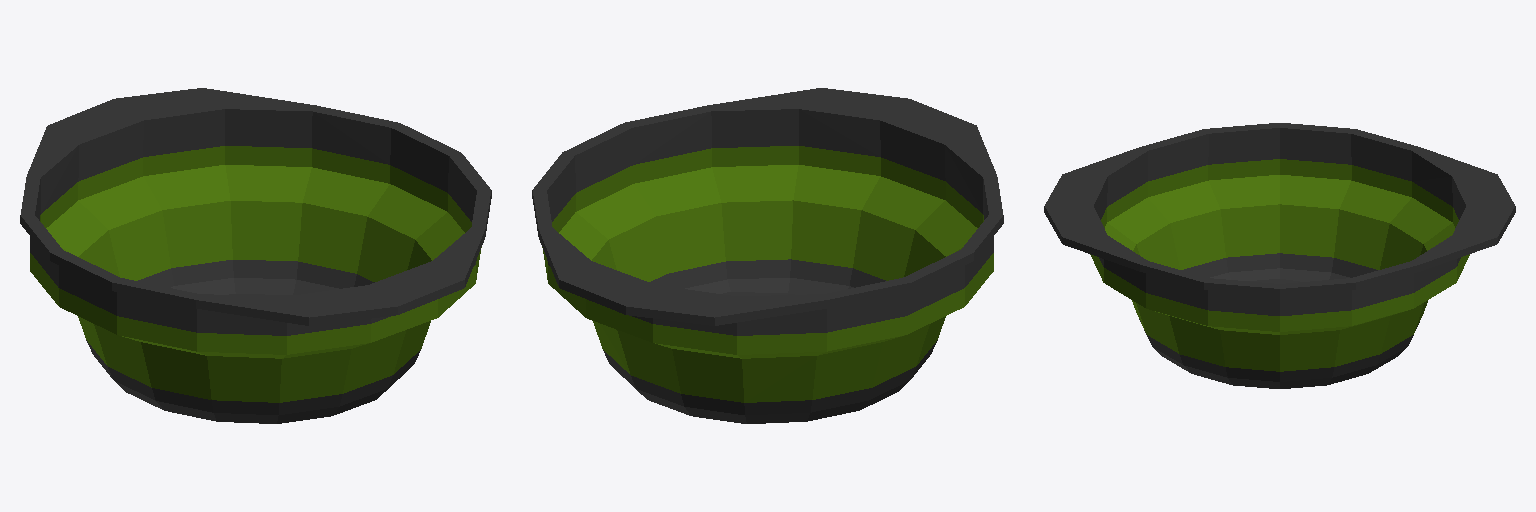
URDF robot description (green_bowl):
<?xml version="1.0"?>

<robot name="green_bowl">
  <link name="green_bowl_frame">
    <visual>
      <geometry>
        <mesh filename="package://iai_kitchen/meshes/racks/BoxyToolholder/green_bowl.dae"/>
      </geometry>
    </visual>
  </link>
</robot>

--- Facts derived from the render (not from the file) ---
3 views of the same robot in one strip: view 1: azimuth 30°, elevation 25°; view 2: azimuth 150°, elevation 25°; view 3: azimuth 270°, elevation 25° (orthographic).
Robot: green_bowl — 1 links, 0 joints (none); root link green_bowl_frame; default pose: all joints at 0.
Links seen in each view (by area): view 1: green_bowl_frame; view 2: green_bowl_frame; view 3: green_bowl_frame.
Boxes of the visible links, x1,y1,x2,y2 form: green_bowl_frame: (20,88,491,423); green_bowl_frame: (532,88,1003,423); green_bowl_frame: (1044,123,1515,388).
Size in the robot's own frame: 0.2385 by 0.2853 by 0.0874 metres.
Meshes: 1 distinct files referenced, 1 mesh visuals loaded (1 Collada DAE).